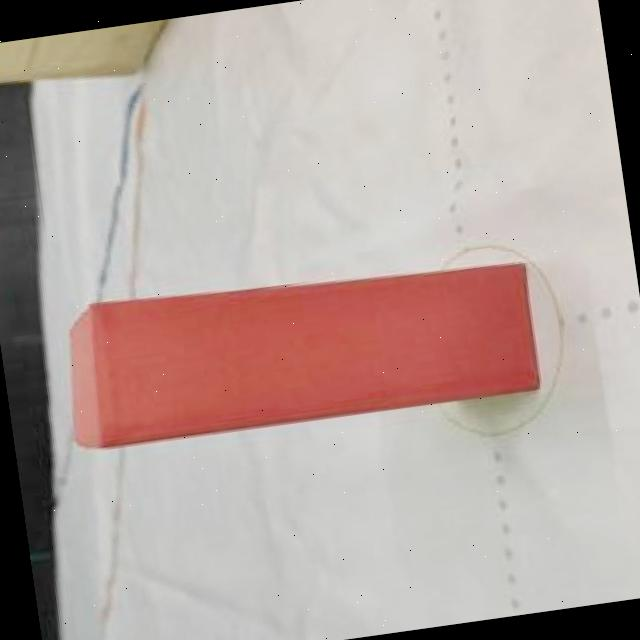redbox: (52, 240, 550, 457)
